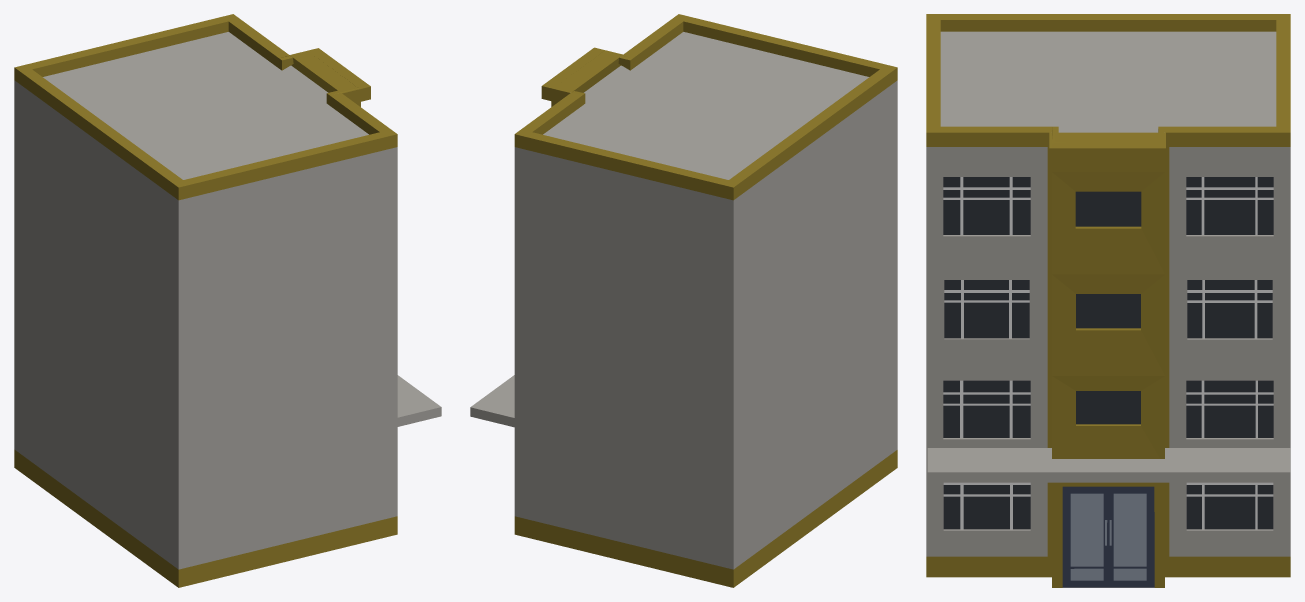
File: Building_PanelSmall_Yellow.fbx
3 renders of one model, left to right at view 1: azimuth 30°, elevation 25°; view 2: azimuth 150°, elevation 25°; view 3: azimuth 270°, elevation 25°, orthographic. The views are drawn at different scales.
Visible parts, largest first — view 1: Cube; view 2: Cube; view 3: Cube.
Boxes of the visible parts, x1=… form: Cube: x1=14, y1=14, x2=441, y2=587; Cube: x1=470, y1=14, x2=897, y2=587; Cube: x1=926, y1=14, x2=1290, y2=587.
Bounding box in the file's own units: 770 × 1118 × 831.
